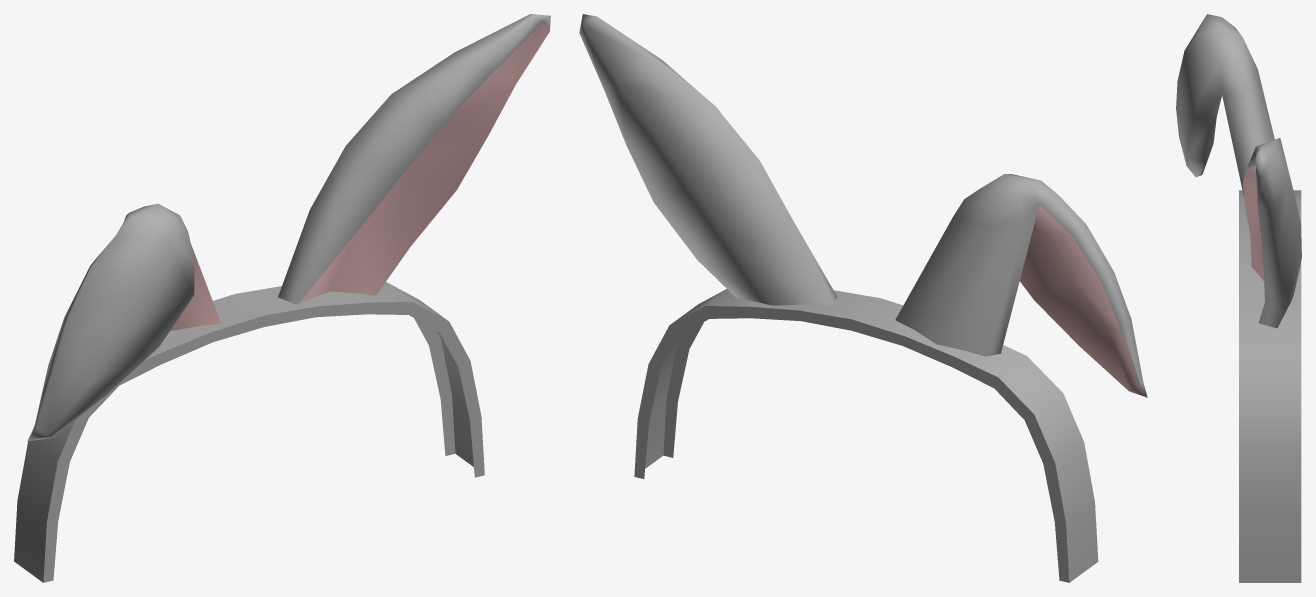
File: top_acc_20.FBX
3 views of the same model, side by side, from view 1: azimuth 30°, elevation 25°; view 2: azimuth 150°, elevation 25°; view 3: azimuth 270°, elevation 25° (orthographic). The views are drawn at different scales.
Parts seen in each view (by area): view 1: top_acc_20; view 2: top_acc_20; view 3: top_acc_20.
Part boxes in pixels (x1,y1,x2,y2): top_acc_20: (14,14,550,582); top_acc_20: (579,14,1147,582); top_acc_20: (1176,14,1301,582).
Size of the model in its own units: 33.29 by 25.46 by 6.25.
